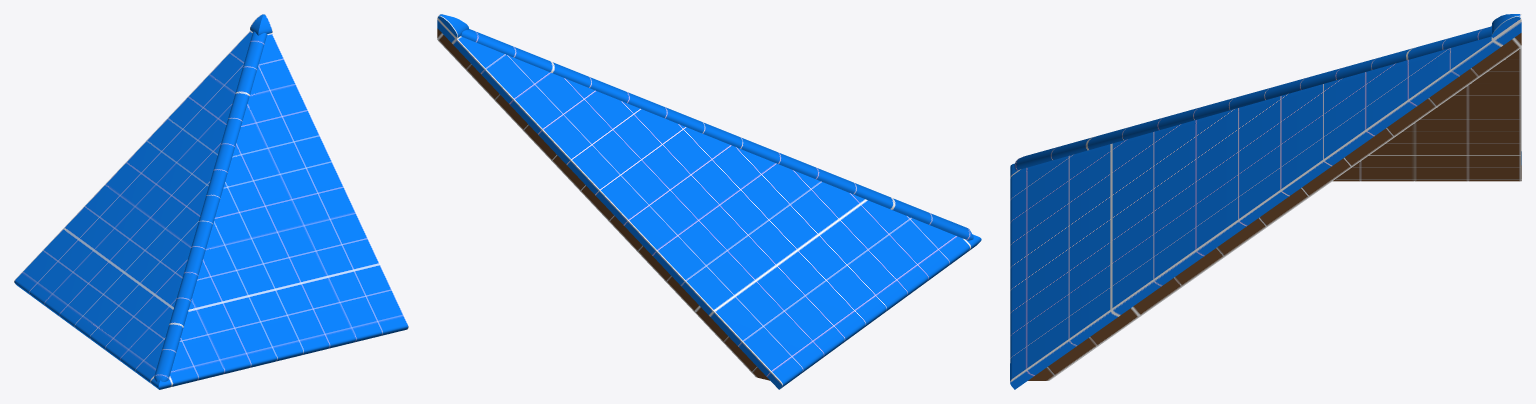
Rendered from M01Roof01_3.FBX.
3 views of the same model, side by side, from view 1: azimuth 30°, elevation 25°; view 2: azimuth 150°, elevation 25°; view 3: azimuth 270°, elevation 25° (orthographic). The views are drawn at different scales.
Visible parts, largest first — view 1: M01Roof01_3; view 2: M01Roof01_3; view 3: M01Roof01_3.
Boxes of the visible parts, <box> form: M01Roof01_3: <box>14,14,408,389</box>; M01Roof01_3: <box>437,14,981,389</box>; M01Roof01_3: <box>1010,14,1521,389</box>.
Size of what is drawn, in the model's own units: 4.76 by 3.84 by 4.76.
